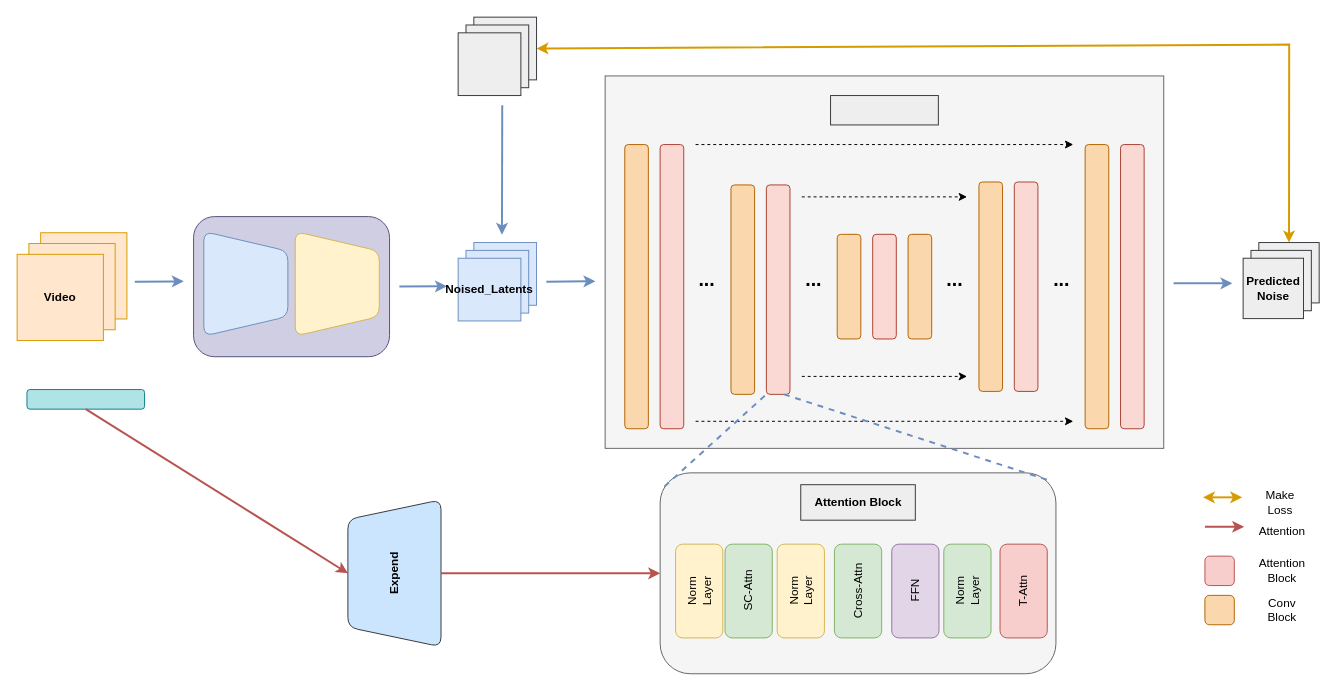
Image size: 1339x691. Some labels were removed from this diagram. Each missing label, with the centre of its shape:
"Noise" belongs at (x=489, y=64).
"Prompt" belongs at (x=85, y=399).
"RCNet" belongs at (x=336, y=283).
"Unet" belongs at (x=884, y=110).
"VAE" belongs at (x=245, y=283).
